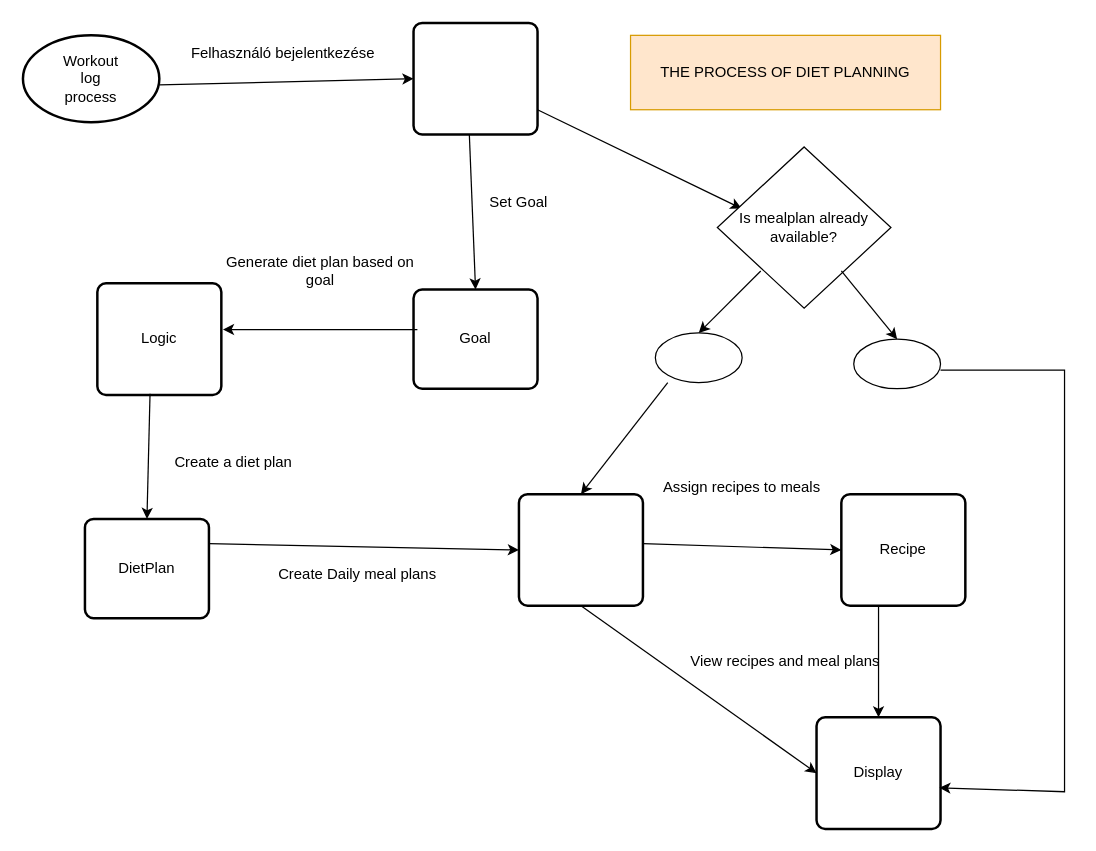
This 1096x851 diagram has some shape labels left out. The shapes that lost their labels are listed below. From the top down, each one's centre as x and y in pixels, then its label:
At (475,78): "User".
At (698,357): "NO".
At (896,363): "YES".
At (580,549): "DailyMealPlan".
